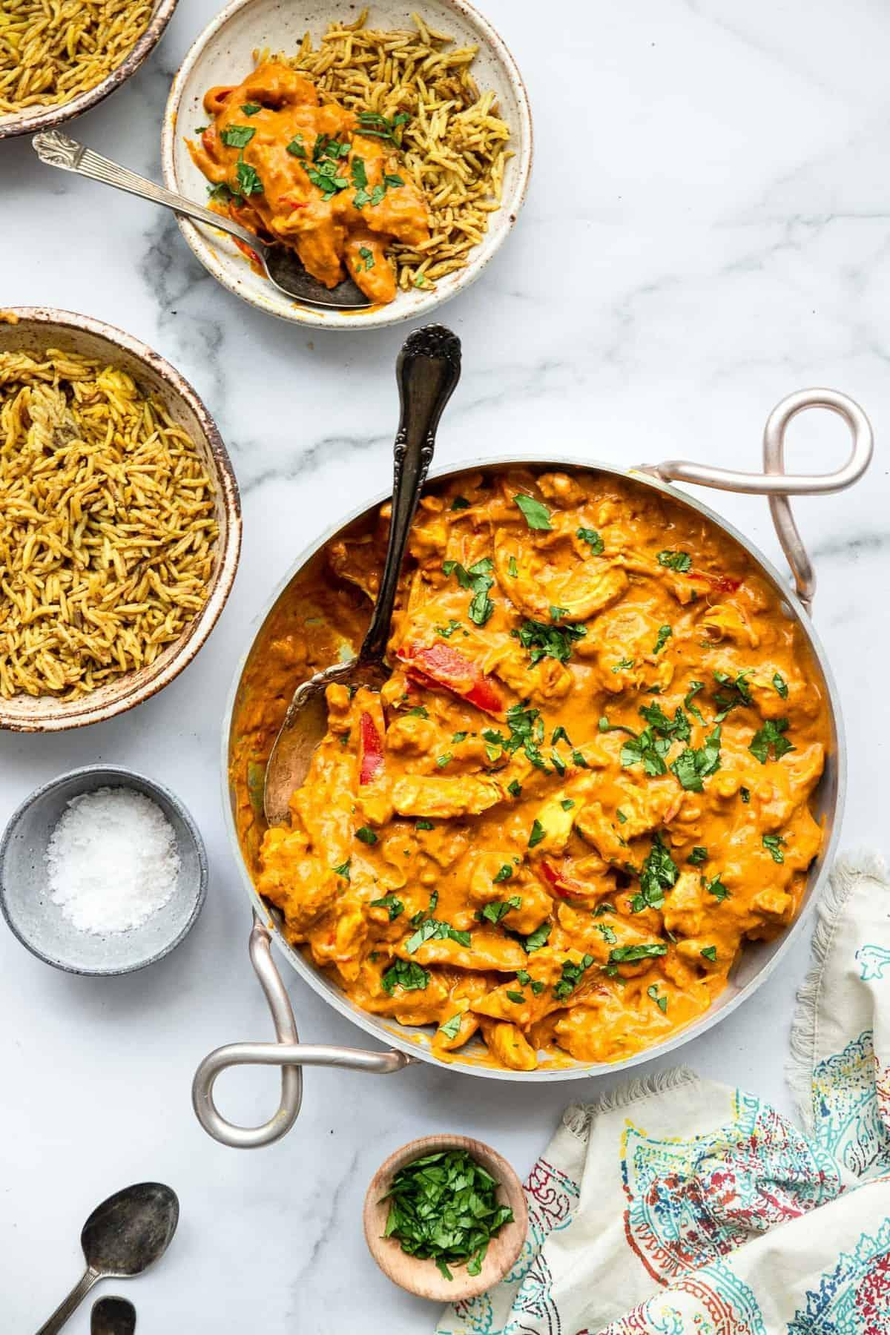chicken: (278, 521, 790, 1049), (219, 87, 415, 266)
rice: (19, 339, 185, 711), (4, 13, 130, 99)
